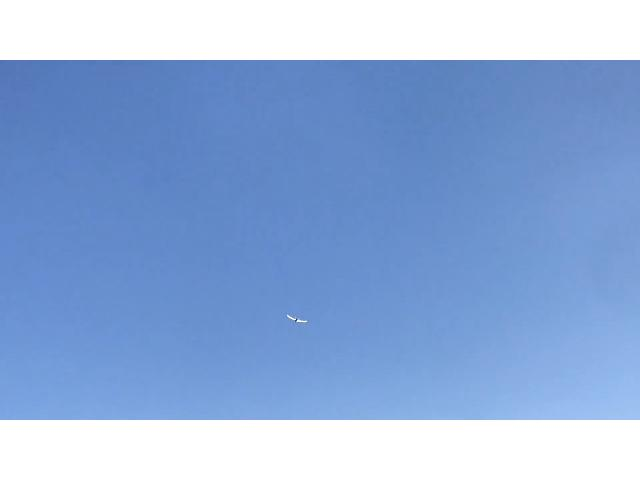Anti-Drone: (276, 304, 314, 336)
